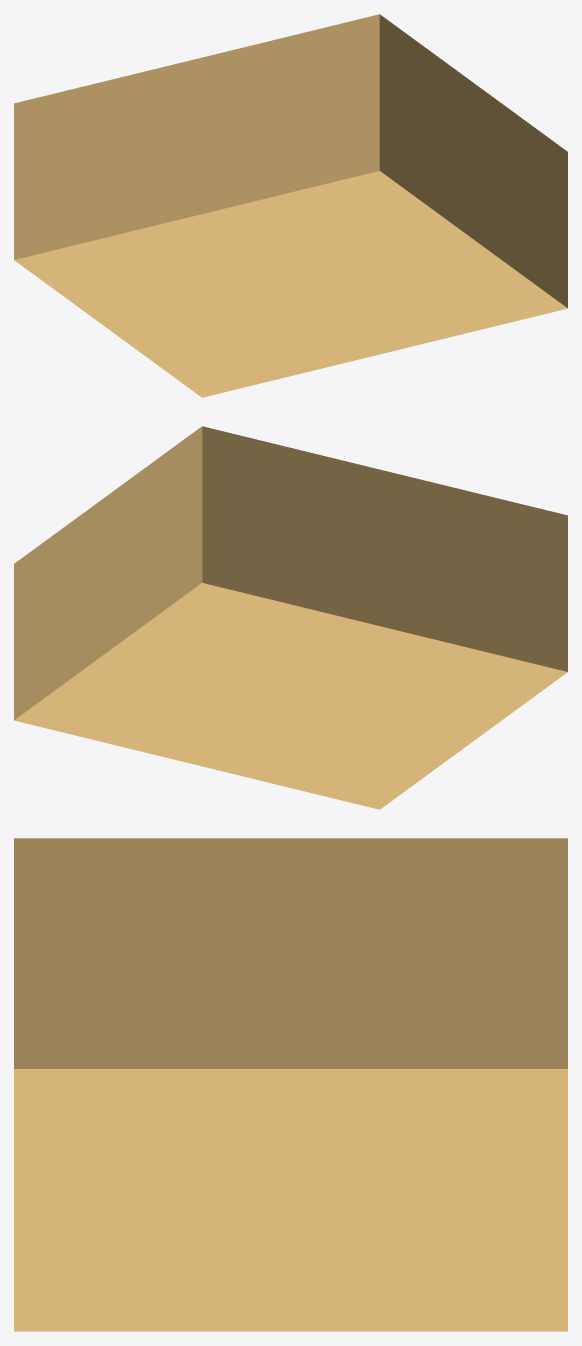
File: tables-grand-heritage-021.glb
3 renders of one model, top to bottom at view 1: azimuth 30°, elevation 25°; view 2: azimuth 150°, elevation 25°; view 3: azimuth 270°, elevation 25°, orthographic. The views are drawn at different scales.
Visible parts, largest first — view 1: Grand Heritage Tables; view 2: Grand Heritage Tables; view 3: Grand Heritage Tables.
Boxes of the visible parts, x1,y1,x2,y2 form: Grand Heritage Tables: [14, 14, 567, 397]; Grand Heritage Tables: [14, 426, 567, 809]; Grand Heritage Tables: [14, 838, 567, 1331].
Size of the model in its own units: 2.2 by 0.9 by 1.96.
